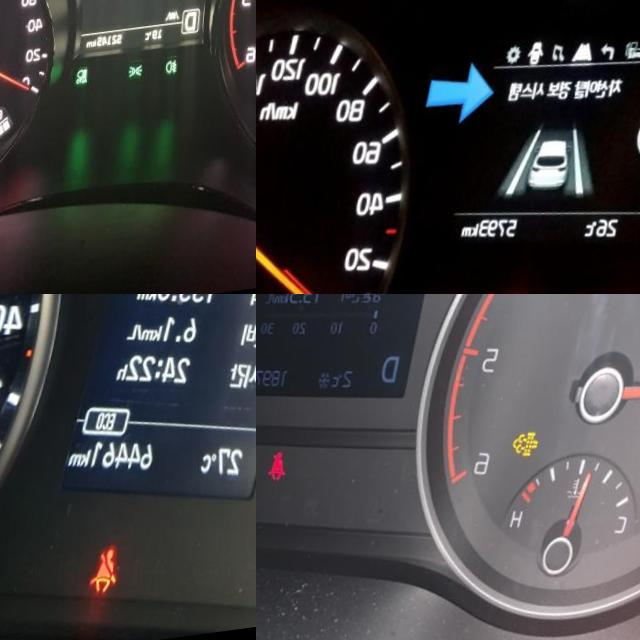FrontFogLight: (173, 67, 186, 84)
SideLamp: (136, 71, 152, 86)
